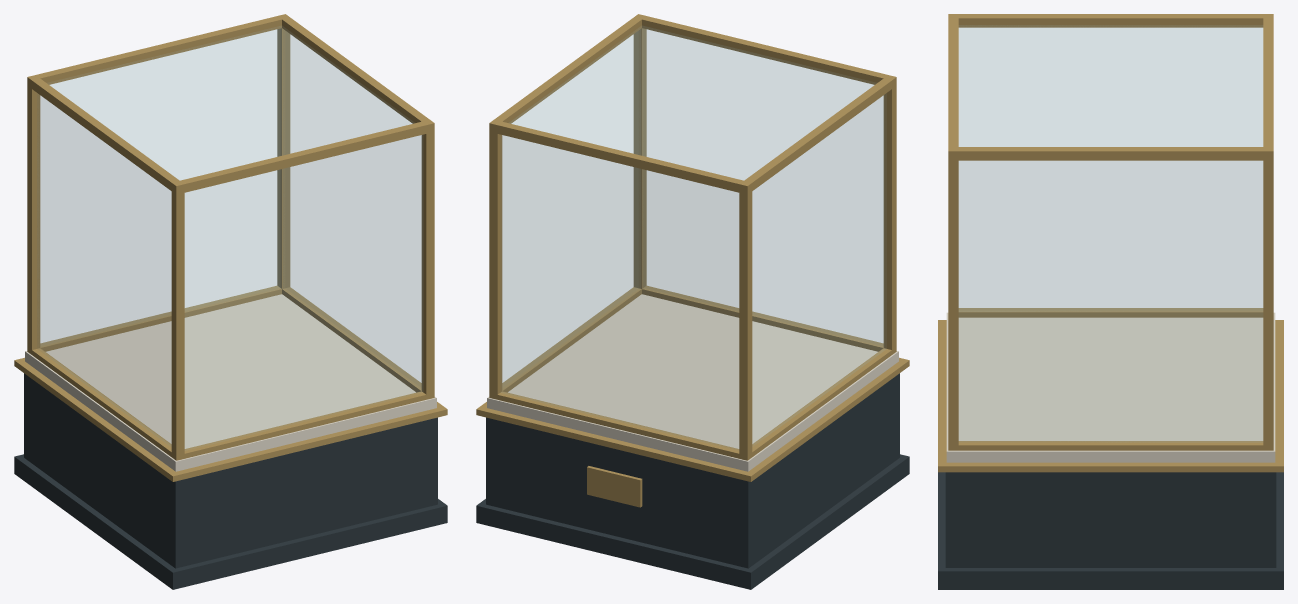
The model's file is VIC_E02_CASE_MEDIUM_Roblox.fbx.
3 renders of one model, left to right at view 1: azimuth 30°, elevation 25°; view 2: azimuth 150°, elevation 25°; view 3: azimuth 270°, elevation 25°, orthographic. The views are drawn at different scales.
Parts seen in each view (by area): view 1: VIC_E02_CASE_MEDIUM__Glass, VIC_E02_CASE_MEDIUM__Charcoal, VIC_E02_CASE_MEDIUM__Brass, VIC_E02_CASE_MEDIUM__Ivory; view 2: VIC_E02_CASE_MEDIUM__Glass, VIC_E02_CASE_MEDIUM__Charcoal, VIC_E02_CASE_MEDIUM__Brass, VIC_E02_CASE_MEDIUM__Ivory; view 3: VIC_E02_CASE_MEDIUM__Glass, VIC_E02_CASE_MEDIUM__Ivory, VIC_E02_CASE_MEDIUM__Charcoal, VIC_E02_CASE_MEDIUM__Brass.
Part boxes in pixels (x1,y1,x2,y2): VIC_E02_CASE_MEDIUM__Glass: (37,26,422,449); VIC_E02_CASE_MEDIUM__Charcoal: (14,373,447,589); VIC_E02_CASE_MEDIUM__Brass: (14,14,447,481); VIC_E02_CASE_MEDIUM__Ivory: (25,294,436,471); VIC_E02_CASE_MEDIUM__Glass: (501,26,885,449); VIC_E02_CASE_MEDIUM__Charcoal: (476,373,909,589); VIC_E02_CASE_MEDIUM__Brass: (476,14,909,507); VIC_E02_CASE_MEDIUM__Ivory: (487,294,898,471); VIC_E02_CASE_MEDIUM__Glass: (959,25,1262,441); VIC_E02_CASE_MEDIUM__Ivory: (946,312,1275,462); VIC_E02_CASE_MEDIUM__Charcoal: (938,472,1283,589); VIC_E02_CASE_MEDIUM__Brass: (938,14,1283,472).
Size of the model in its own units: 4 by 5.54 by 4.
